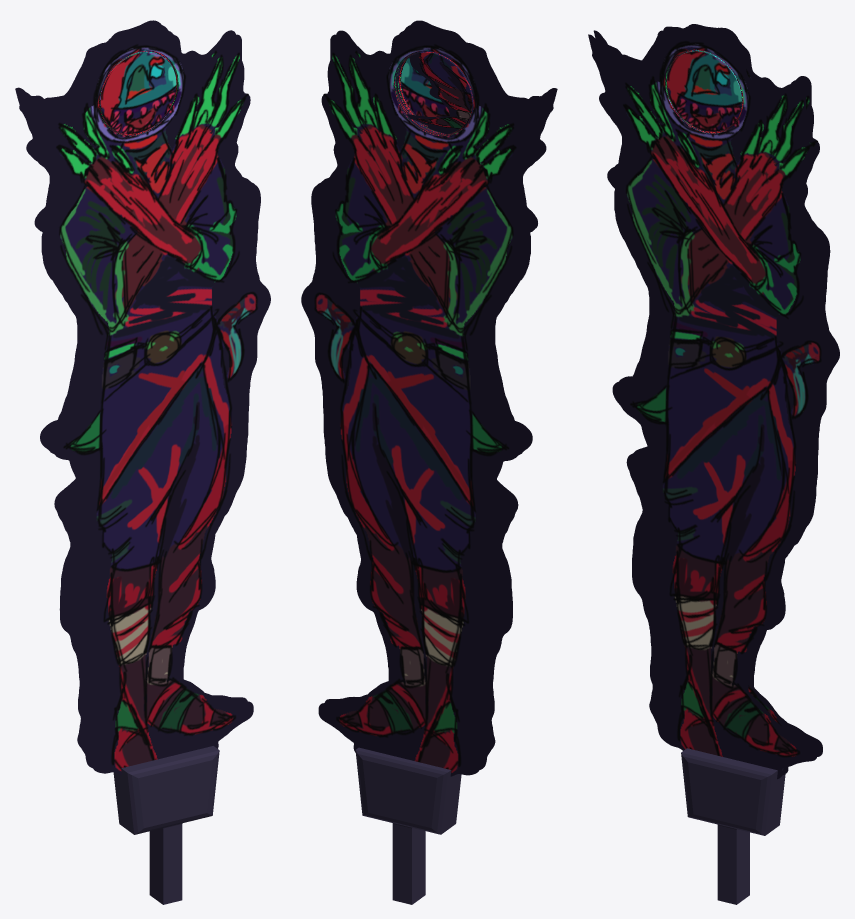
Rendered from LongGuy.fbx.
3 views of the same model, side by side, from view 1: azimuth 30°, elevation 25°; view 2: azimuth 150°, elevation 25°; view 3: azimuth 330°, elevation 25° (orthographic).
Parts seen in each view (by area): view 1: LongGuy, LongGuyHolder, LongGuyHead; view 2: LongGuy, LongGuyHolder, LongGuyHead; view 3: LongGuy, LongGuyHolder, LongGuyHead.
Boxes of the visible parts, x1,y1,x2,y2 form: LongGuy: [15, 20, 270, 774]; LongGuyHolder: [113, 746, 219, 904]; LongGuyHead: [98, 50, 176, 134]; LongGuy: [301, 20, 557, 776]; LongGuyHolder: [355, 747, 461, 904]; LongGuyHead: [396, 50, 473, 134]; LongGuy: [588, 24, 839, 779]; LongGuyHolder: [681, 748, 785, 904]; LongGuyHead: [667, 49, 743, 131].
Size of the model in its own units: 0.7283 by 2.43 by 0.0943.
